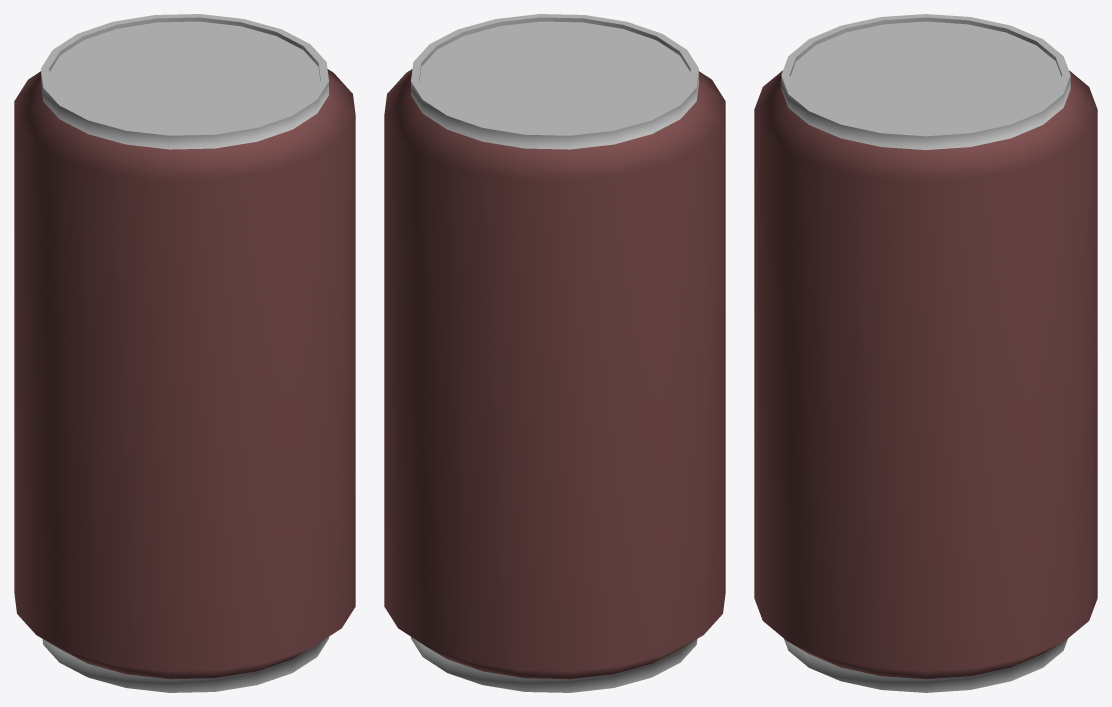
The model's file is SodaCan.fbx.
3 views of the same model, side by side, from view 1: azimuth 30°, elevation 25°; view 2: azimuth 150°, elevation 25°; view 3: azimuth 270°, elevation 25° (orthographic).
Visible parts, largest first — view 1: soda_can; view 2: soda_can; view 3: soda_can.
Part boxes in pixels (x1,y1,x2,y2): soda_can: [14, 14, 355, 692]; soda_can: [384, 14, 725, 692]; soda_can: [754, 14, 1097, 692].
Size of the model in its own units: 0.2626 by 0.47 by 0.2626.
